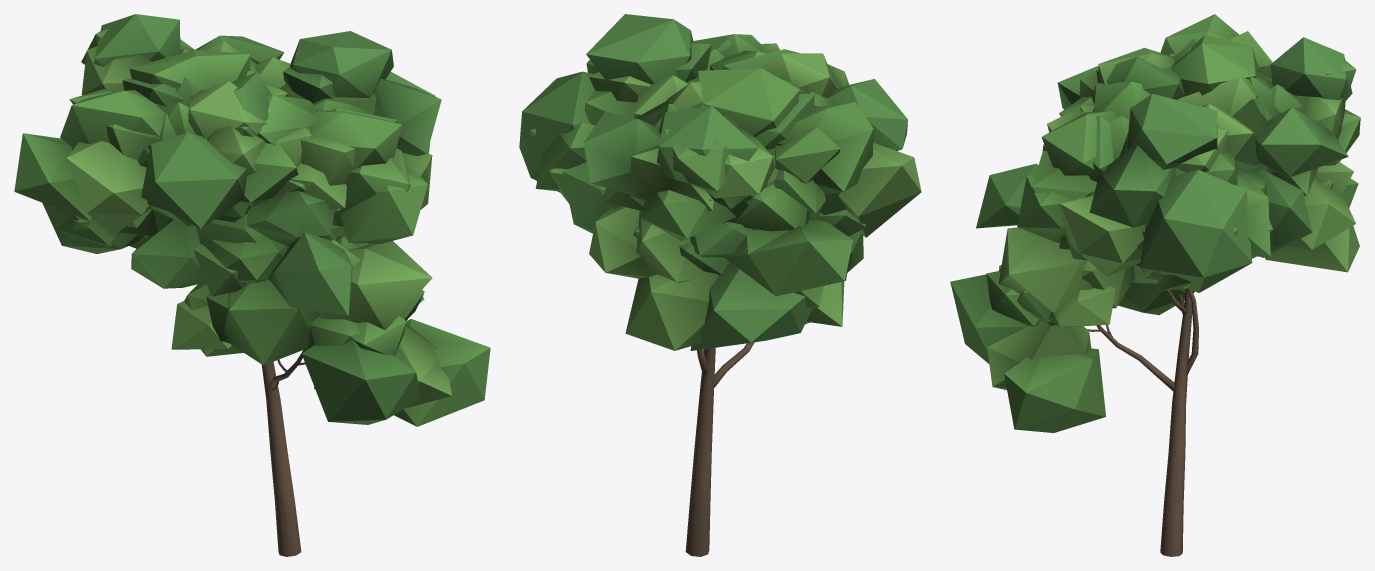
The model's file is obj_arbol_3.glb.
The picture shows the model from 3 angles, left to right: view 1: azimuth 30°, elevation 25°; view 2: azimuth 150°, elevation 25°; view 3: azimuth 270°, elevation 25°; orthographic projection. The views are drawn at different scales.
Parts seen in each view (by area): view 1: propforge-libre-arbol; view 2: propforge-libre-arbol; view 3: propforge-libre-arbol.
Part boxes in pixels (x1,y1,x2,y2): propforge-libre-arbol: [14, 14, 490, 556]; propforge-libre-arbol: [519, 14, 921, 556]; propforge-libre-arbol: [950, 14, 1360, 556].
Bounding box in the file's own units: 1.93 × 2.54 × 1.98.
